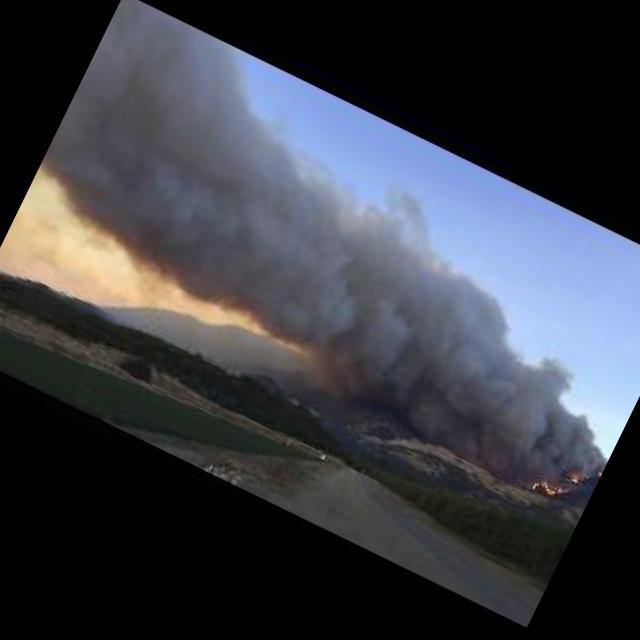fire: (558, 448, 606, 494), (521, 468, 573, 507)
smoke: (226, 168, 610, 496), (9, 0, 348, 337)
